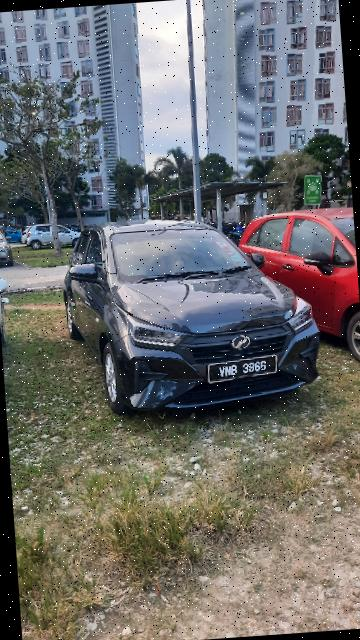License_Plate: (205, 353, 281, 386)
car: (55, 206, 327, 422)
